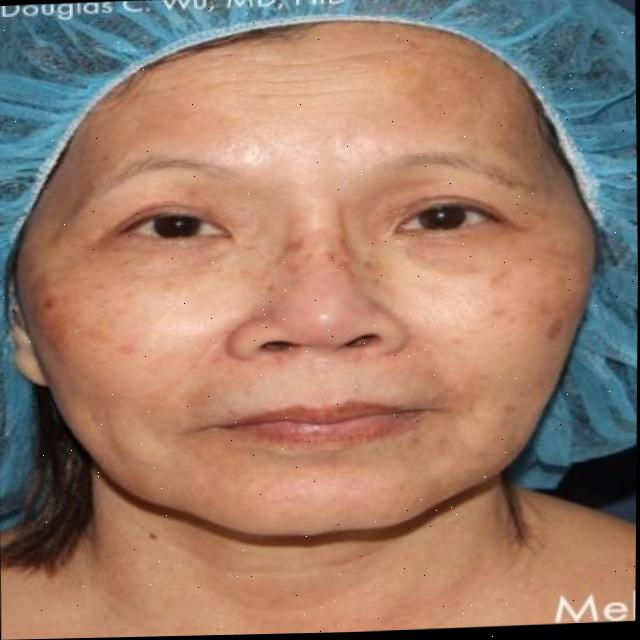Melasma: (7, 239, 135, 390), (492, 223, 591, 354), (255, 235, 393, 288)
